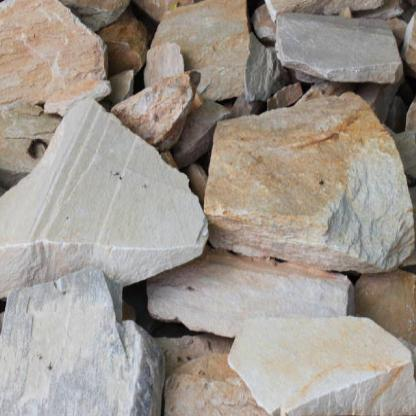Sedimentary_Limestone: (0, 87, 199, 313), (204, 84, 416, 288), (145, 226, 379, 354), (0, 260, 174, 415), (224, 308, 415, 415), (266, 5, 416, 96), (147, 2, 274, 100)
